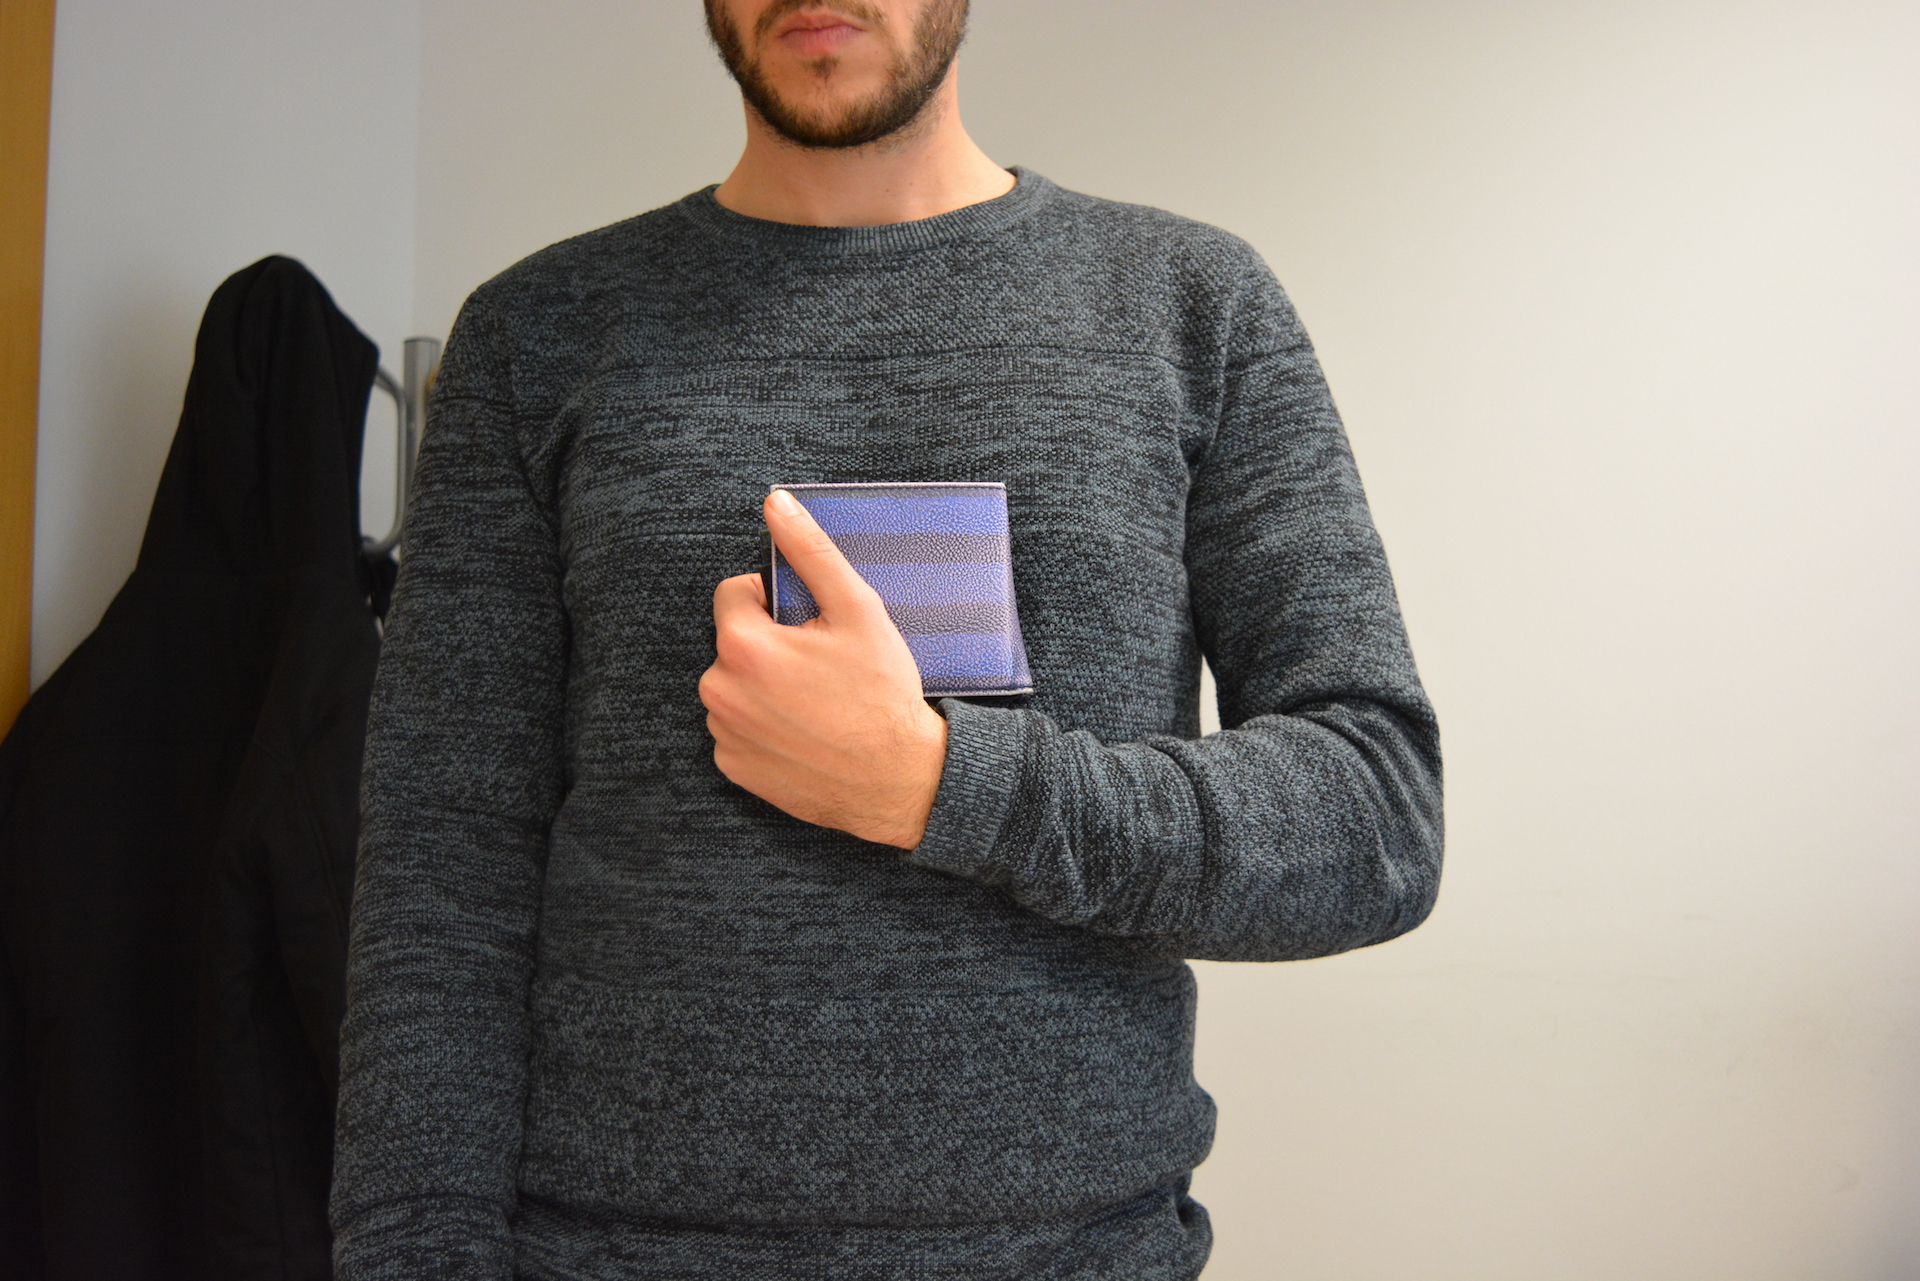monedero: (756, 479, 1036, 712)
